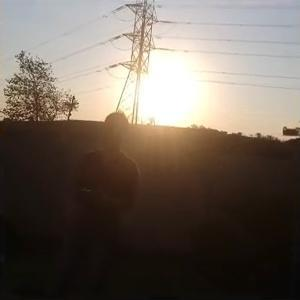follow: (66, 107, 141, 298)
